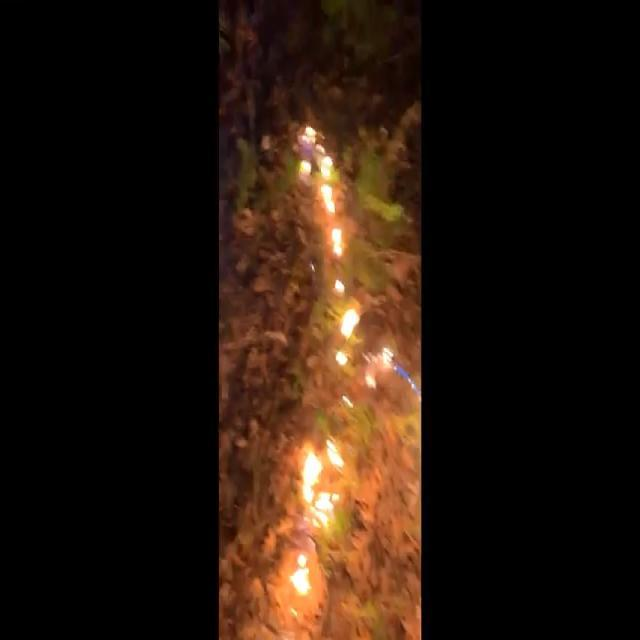Fire: (281, 113, 394, 595)
